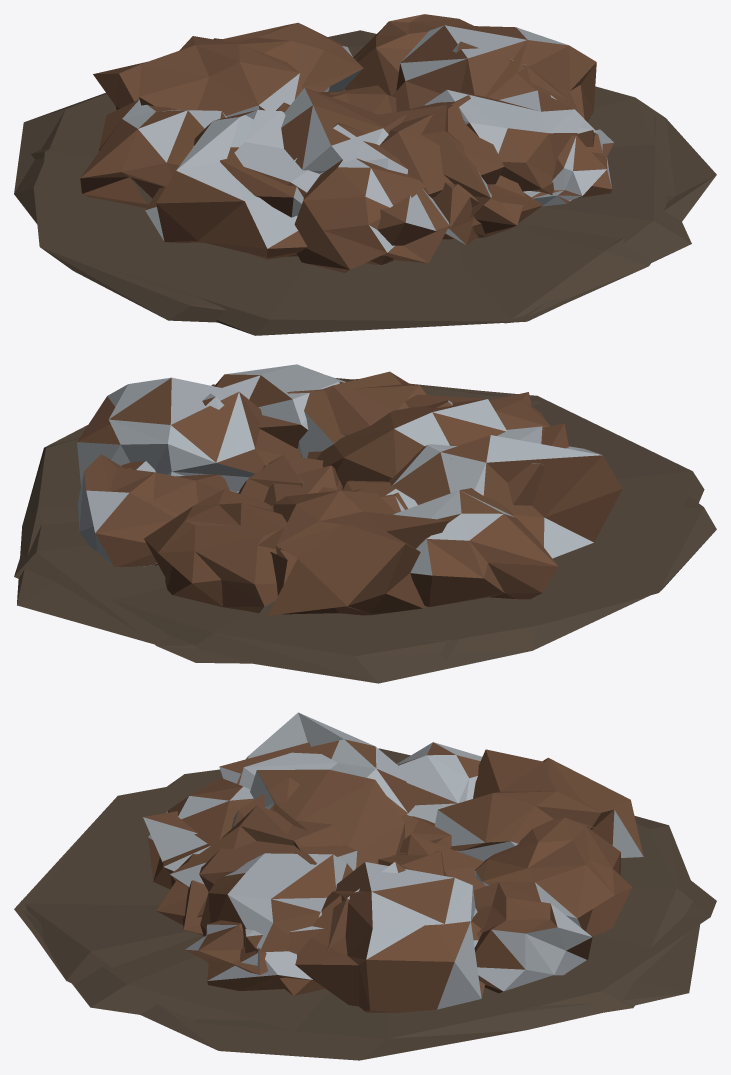
Rendered from neutral_ore_field_stage_04.glb.
3 views of the same model, one above another, from view 1: azimuth 30°, elevation 25°; view 2: azimuth 150°, elevation 25°; view 3: azimuth 270°, elevation 25° (orthographic). The views are drawn at different scales.
Visible parts, largest first — view 1: ore (×2), soil (×2); view 2: ore (×2), soil (×2); view 3: ore (×2), soil (×2).
Boxes of the visible parts, bbox=[...] form: ore (×2): bbox=[80, 14, 613, 273]; soil (×2): bbox=[14, 30, 716, 335]; ore (×2): bbox=[77, 364, 622, 615]; soil (×2): bbox=[14, 378, 716, 683]; ore (×2): bbox=[143, 712, 643, 1012]; soil (×2): bbox=[14, 748, 716, 1060].
Bounding box in the file's own units: 4.14 × 0.8606 × 4.13.
